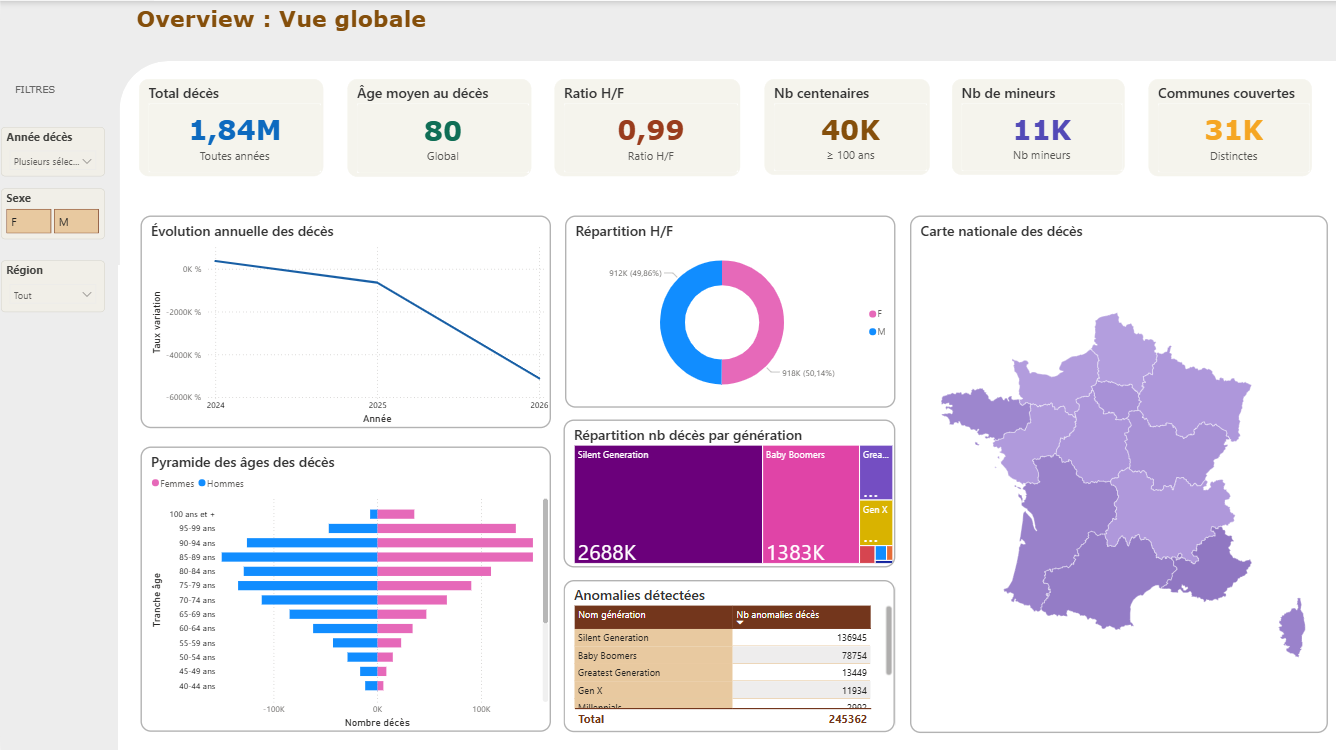

What the dashboard file says about the page in this screenshot:
{"tool":"powerbi","page":{"name":"Overview","canvas":[1920,1080],"ordinal":0},"visuals":[{"type":"group","id":"g1","title":"Groupe 1","box":[167.4,87,1750,993.5],"z":0},{"type":"shape","box":[255.6,87,1661.1,993.7],"z":0,"group":"g1"},{"type":"cardVisual","title":"Total décès","fields":{"Data":["_Mesures.Total Décès"]},"box":[198.5,111.3,264.3,139.3],"z":1000},{"type":"shape","box":[167.4,378.4,1661.1,702.3],"z":1000,"group":"g1"},{"type":"shape","box":[168.6,87.3,1747,992.4],"z":2000,"group":"g1"},{"type":"cardVisual","title":"Âge moyen au décès","fields":{"Data":["_Mesures.Âge moyen global"]},"box":[496.4,111.3,263.3,140],"z":2000},{"type":"cardVisual","title":"Ratio H/F","fields":{"Data":["_Mesures.Ratio H/F"]},"box":[793.4,111.3,266.1,139.3],"z":3000},{"type":"cardVisual","title":"Nb centenaires","fields":{"Data":["_Mesures.Nb centenaires"]},"box":[1093,111.7,236.3,137.5],"z":4000},{"type":"cardVisual","title":"Communes couvertes","fields":{"Data":["_Mesures.Communes distinctes"]},"box":[1643.7,111.7,234.2,139.7],"z":5000},{"type":"cardVisual","title":"Nb de mineurs","fields":{"Data":["_Mesures.Nb mineurs"]},"box":[1363,111.7,247.1,137.5],"z":6000},{"type":"lineChart","title":"Évolution annuelle des décès","fields":{"Category":["agg_mortalite_mensuelle.Année"],"Y":["Sum(agg_mortalite_mensuelle.Variation vs N-1)"]},"box":[198.9,306.7,587.8,304.4],"z":7000},{"type":"donutChart","title":"Répartition H/F","fields":{"Y":["_Mesures.Total décès"],"Category":["fact_deces.Sexe"]},"box":[807.2,306.7,473.3,275.6],"z":8000},{"type":"shapeMap","title":" Carte nationale des décès","fields":{"Value":["Avg(agg_mortalite_commune.Taux mortalité)"],"Category":["dim_lieu.Libellé région"]},"box":[1301.1,306.7,598.9,741.1],"z":9000},{"type":"barChart","title":"Pyramide des âges des décès","fields":{"Category":["Tri trange age 5.Tranche âge (5 ans)"],"Y":["_Mesures.Nb Femmes (positif)","_Mesures.Nb Hommes (négatif)"]},"box":[198.9,638.9,587.8,408.9],"z":10000},{"type":"treemap","title":"Répartition nb décès par génération","fields":{"Group":["dim_generation.Nom génération"],"Values":["_Mesures.Décès génération"]},"box":[805.6,600,475.6,212.2],"z":11000},{"type":"tableEx","title":"Anomalies détectées","fields":{"Values":["dim_generation.Nom génération","agg_mortalite_generation.Anomalie génération"]},"box":[806.7,830,474.4,217.8],"z":12000},{"type":"textbox","box":[189.3,0,482.1,64.3],"z":13000},{"type":"textbox","box":[14.3,110.7,98.2,35.7],"z":14000},{"type":"slicer","title":"Année décès","fields":{"Values":["dim_date.Année"]},"box":[0,180.6,148.4,71],"z":15000},{"type":"advancedSlicerVisual","fields":{"Values":["fact_deces.Sexe"]},"box":[0,269.4,148.4,72.6],"z":16000},{"type":"slicer","title":"Région","fields":{"Values":["dim_lieu.Libellé région"]},"box":[0,371,148.4,74.2],"z":17000}]}

Visuals, with their boxes in screenshot pixels (x1, y1, x2, y2), scaled from the page's 1920x1080 canvas onto the 1336x750 screenshot:
"Groupe 1" group: x1=116 y1=60 x2=1334 y2=749
shape: x1=178 y1=60 x2=1334 y2=749
"Total décès" cardVisual: x1=138 y1=77 x2=322 y2=174
shape: x1=116 y1=263 x2=1272 y2=749
shape: x1=117 y1=61 x2=1333 y2=749
"Âge moyen au décès" cardVisual: x1=345 y1=77 x2=529 y2=175
"Ratio H/F" cardVisual: x1=552 y1=77 x2=737 y2=174
"Nb centenaires" cardVisual: x1=761 y1=78 x2=925 y2=173
"Communes couvertes" cardVisual: x1=1144 y1=78 x2=1307 y2=175
"Nb de mineurs" cardVisual: x1=948 y1=78 x2=1120 y2=173
"Évolution annuelle des décès" lineChart: x1=138 y1=213 x2=547 y2=424
"Répartition H/F" donutChart: x1=562 y1=213 x2=891 y2=404
" Carte nationale des décès" shapeMap: x1=905 y1=213 x2=1322 y2=728
"Pyramide des âges des décès" barChart: x1=138 y1=444 x2=547 y2=728
"Répartition nb décès par génération" treemap: x1=561 y1=417 x2=892 y2=564
"Anomalies détectées" tableEx: x1=561 y1=576 x2=891 y2=728
textbox: x1=132 y1=0 x2=467 y2=45
textbox: x1=10 y1=77 x2=78 y2=102
"Année décès" slicer: x1=0 y1=125 x2=103 y2=175
advancedSlicerVisual - fact_deces.Sexe: x1=0 y1=187 x2=103 y2=238
"Région" slicer: x1=0 y1=258 x2=103 y2=309
